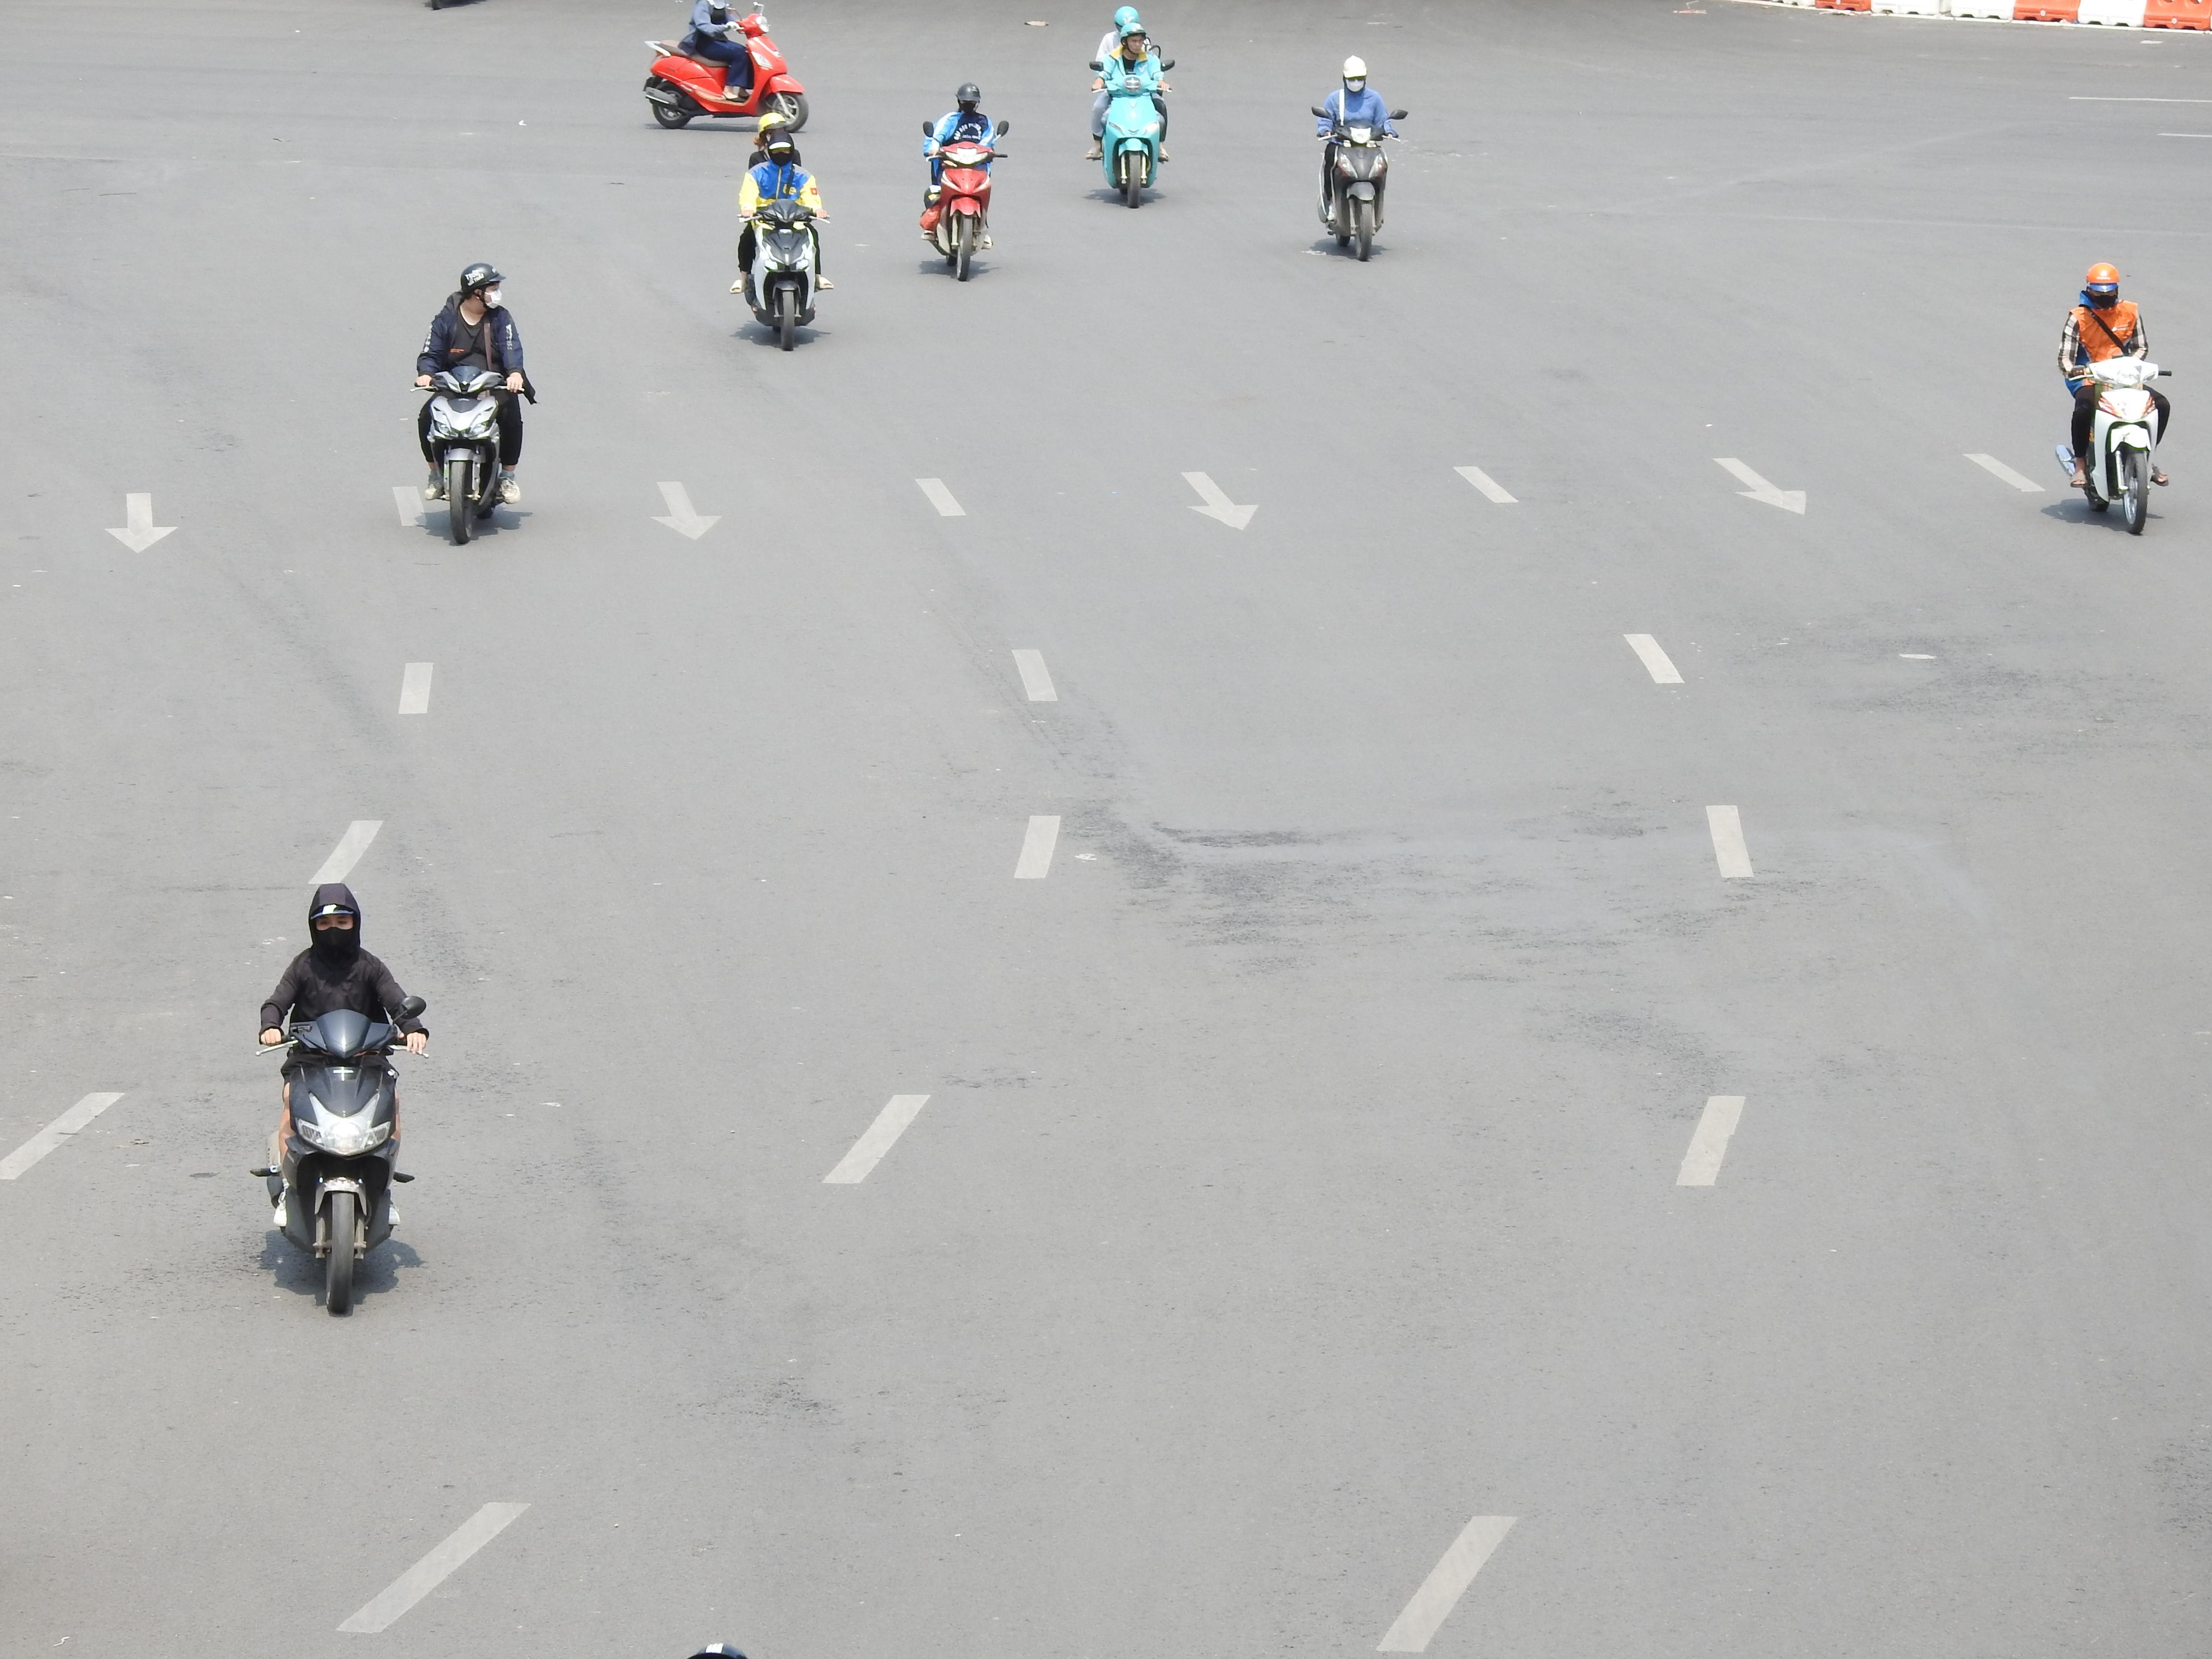motorbike: (256, 882, 427, 1317), (416, 260, 531, 547), (2059, 261, 2170, 537), (643, 0, 808, 131), (735, 124, 829, 352), (1313, 56, 1402, 263), (1087, 7, 1174, 207), (920, 80, 1007, 281)
